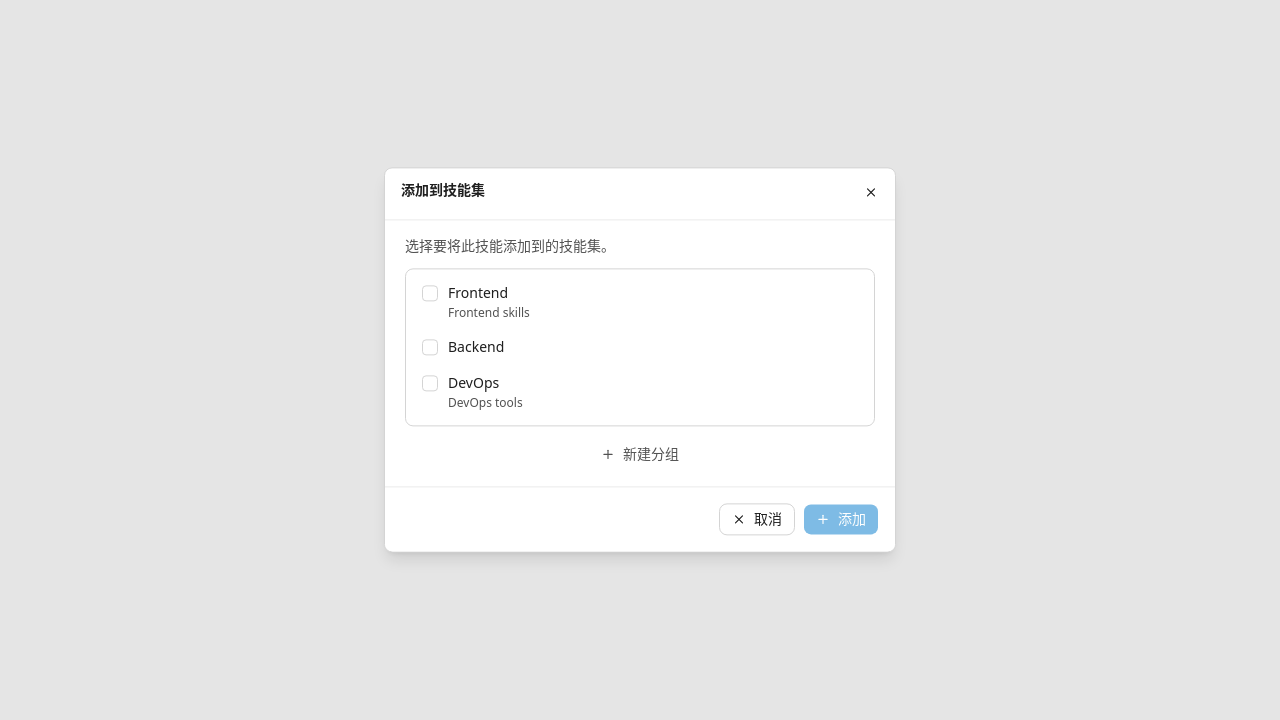
Test: CollectionPickerDialog › Confirm button becomes enabled when a collection is selected
What coordinates should you click on to do the following:
click the checkbox named "Backend"
I would click on:
 (430, 348)
Its box is [422, 340, 438, 356].
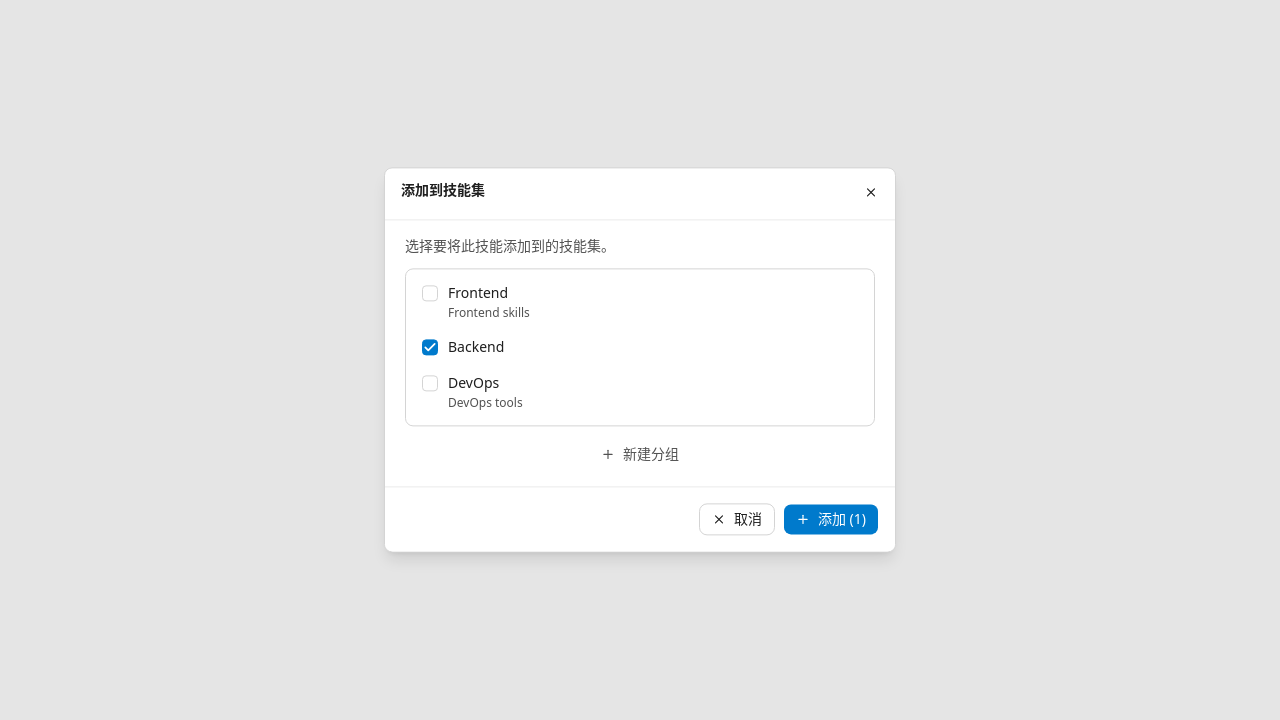
Check: the button "添加 (1)" is enabled, box [783, 504, 879, 536]
